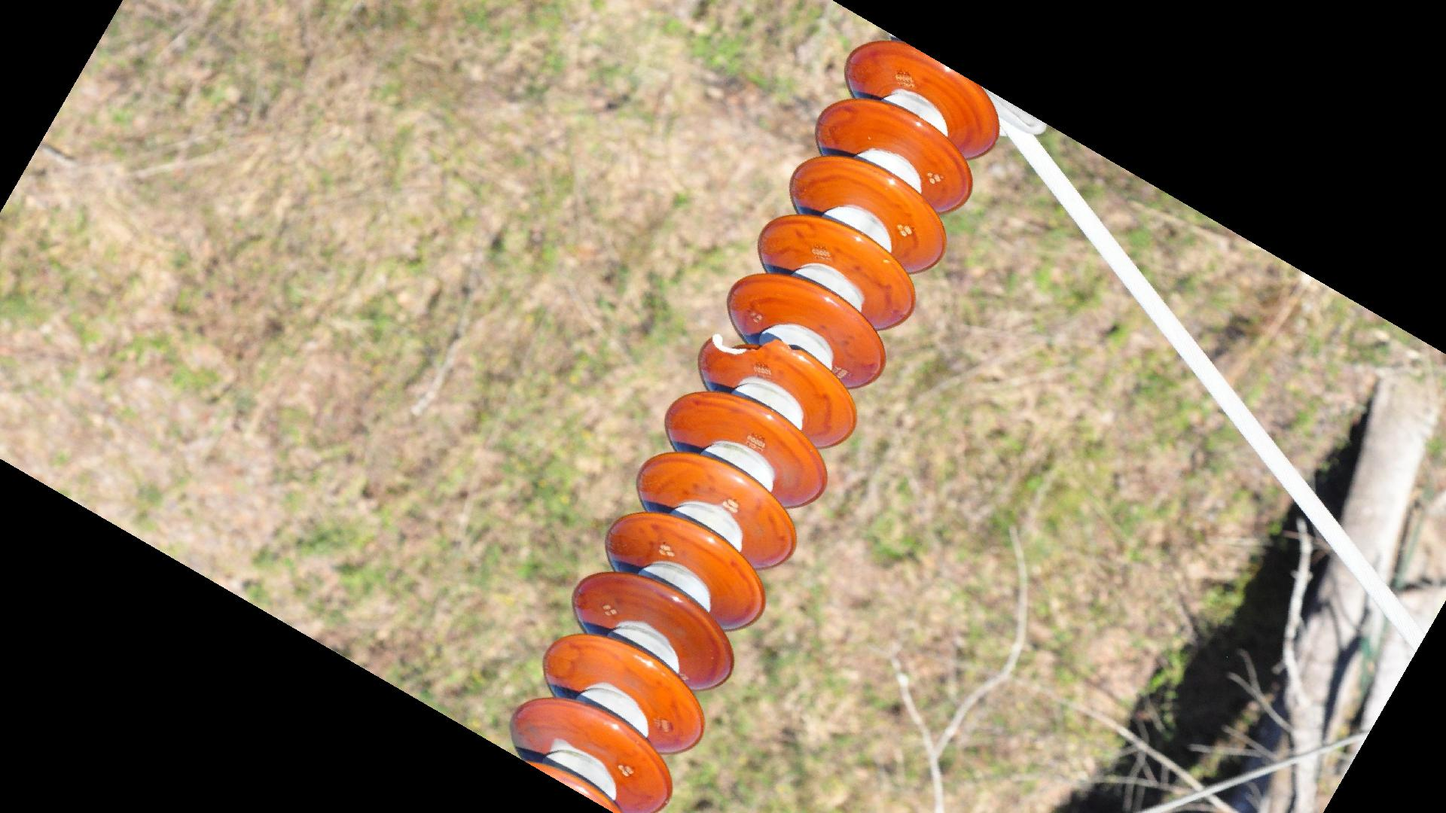insulator: (503, 34, 1006, 809)
insulator_breakage: (702, 330, 809, 366)
